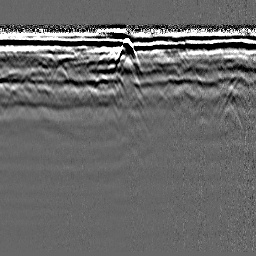cavity: (116, 35, 141, 70)
